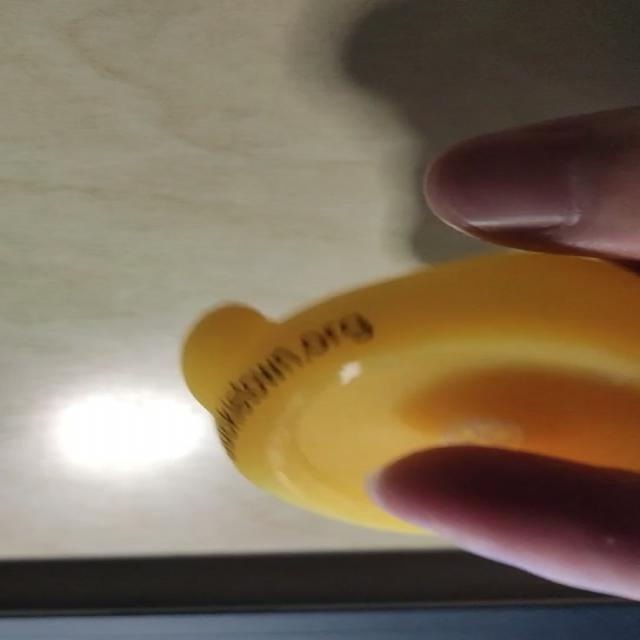rubber-duck: (181, 252, 638, 530)
